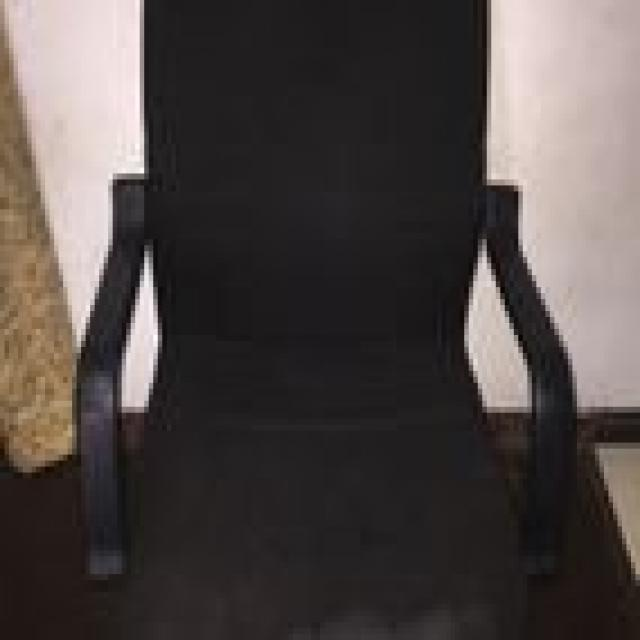others: (63, 6, 613, 640)
